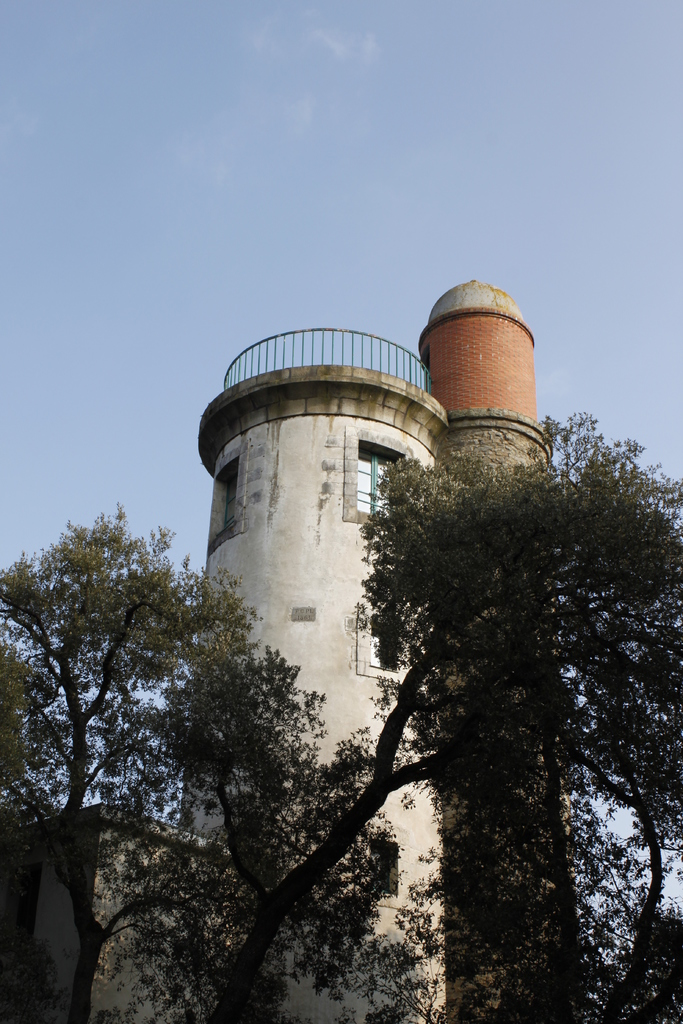Tree: (0, 411, 683, 1024)
